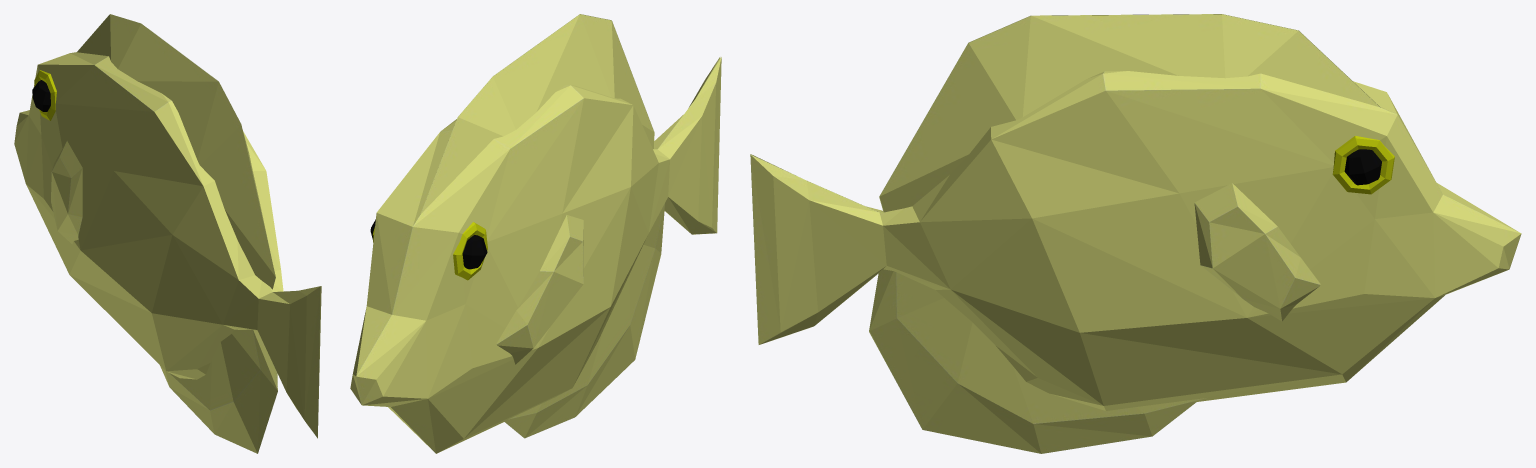
The model's file is YellowTang.gltf.
The picture shows the model from 3 angles, left to right: view 1: azimuth 30°, elevation 25°; view 2: azimuth 150°, elevation 25°; view 3: azimuth 270°, elevation 25°; orthographic projection. The views are drawn at different scales.
Visible parts, largest first — view 1: TANG.1; view 2: TANG.1; view 3: TANG.1.
Part boxes in pixels (x1,y1,x2,y2): TANG.1: (14,14,321,453); TANG.1: (350,14,721,453); TANG.1: (750,14,1521,453).
Size of the model in its own units: 81.3 by 180 by 286.
Materials: 1 (1 with a texture image).
